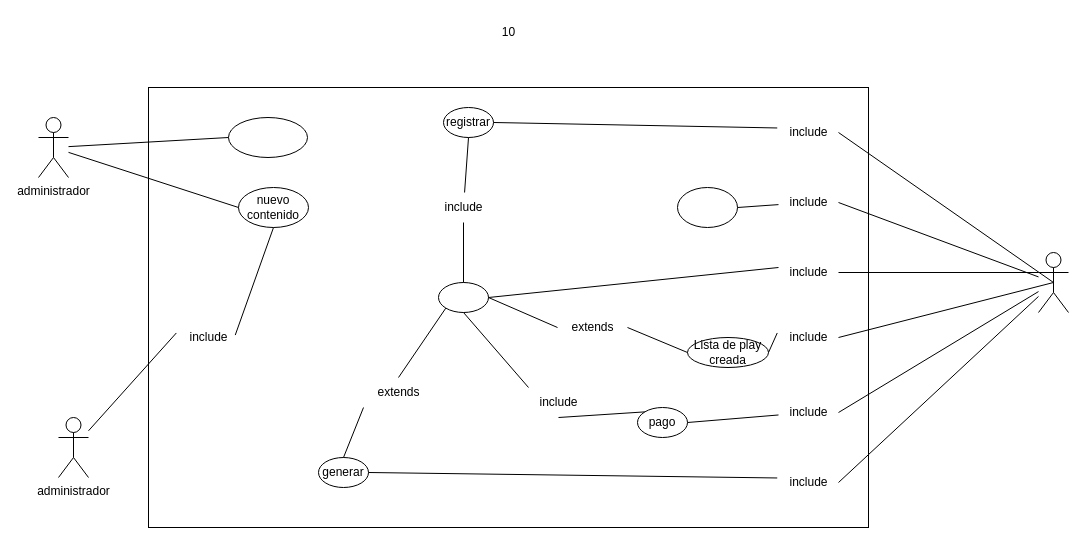
This 1088x545 diagram has some shape labels left out. Each missing label, with the centre of its shape:
"buscar" goes at [707,207].
"cliente" goes at [1053,282].
"contenido" goes at [268,137].
"reproducir" goes at [463,297].
